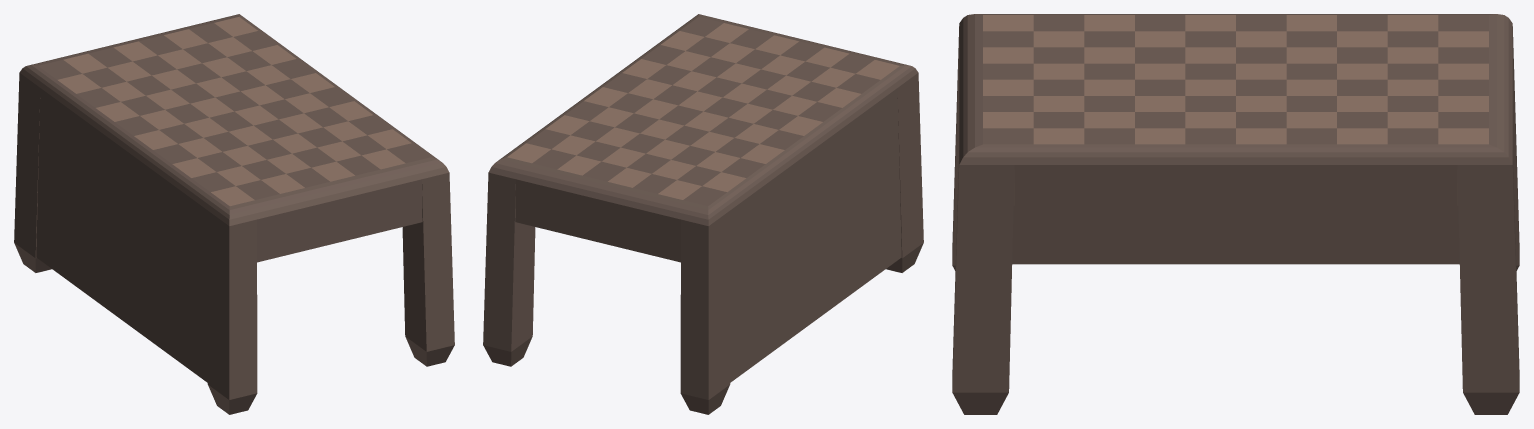
File: masa.fbx
The picture shows the model from 3 angles, left to right: view 1: azimuth 30°, elevation 25°; view 2: azimuth 150°, elevation 25°; view 3: azimuth 270°, elevation 25°; orthographic projection. The views are drawn at different scales.
Parts seen in each view (by area): view 1: Plane; view 2: Plane; view 3: Plane.
Boxes of the visible parts, x1,y1,x2,y2 form: Plane: [14, 14, 454, 414]; Plane: [483, 14, 923, 414]; Plane: [952, 14, 1519, 414].
Bounding box in the file's own units: 205 × 175 × 339.
